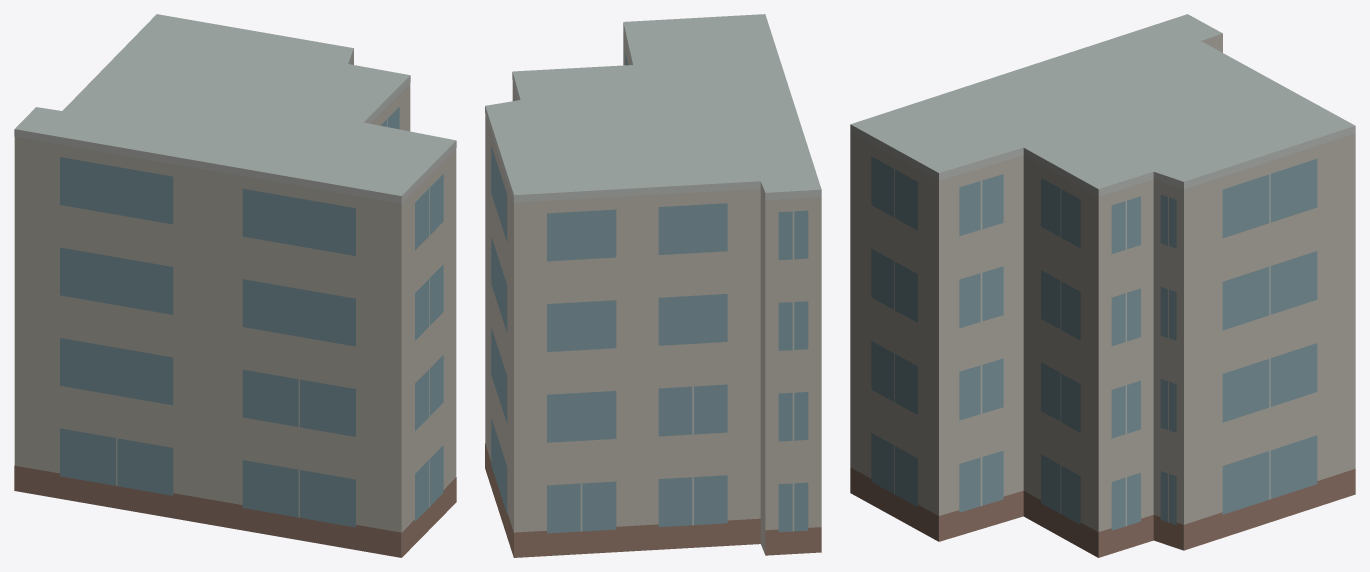
Rendered from survey-upis-32985088.glb.
3 views of the same model, side by side, from view 1: azimuth 30°, elevation 25°; view 2: azimuth 150°, elevation 25°; view 3: azimuth 270°, elevation 25° (orthographic).
Parts seen in each view (by area): view 1: survey-upis-32985088.tmp; view 2: survey-upis-32985088.tmp; view 3: survey-upis-32985088.tmp.
Part boxes in pixels (left/top/right/bottom): survey-upis-32985088.tmp: left=14, top=14, right=456, bottom=557; survey-upis-32985088.tmp: left=485, top=14, right=821, bottom=557; survey-upis-32985088.tmp: left=850, top=14, right=1355, bottom=557.
Size of the model in its own units: 12.03 by 11.8 by 14.66.
